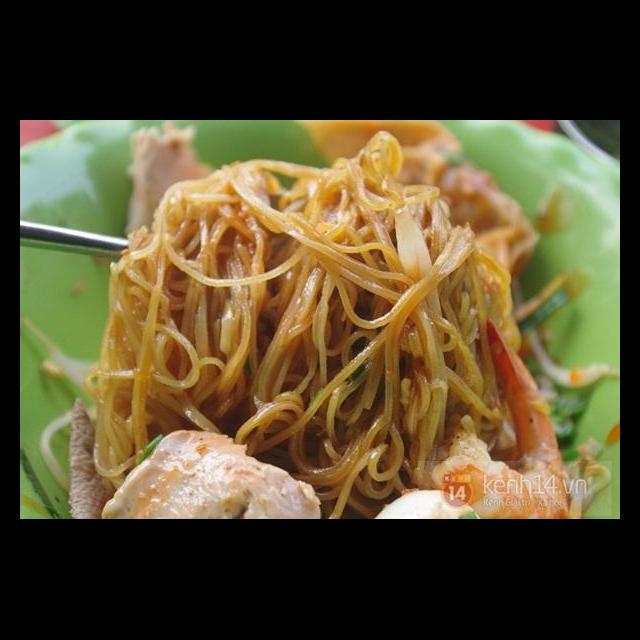mi: (118, 152, 515, 466)
mi tron: (32, 150, 619, 520)
thit heo: (63, 396, 127, 520)
tom: (423, 312, 577, 520)
